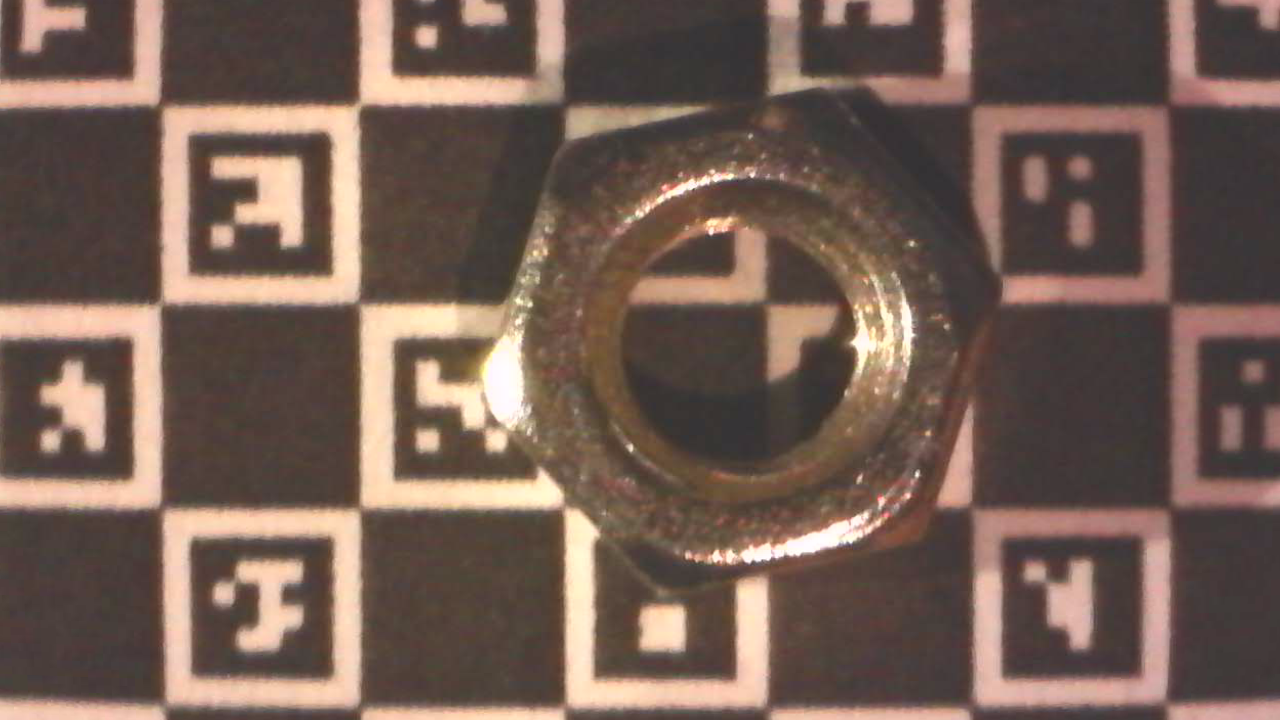Bolt: (474, 87, 1008, 606)
